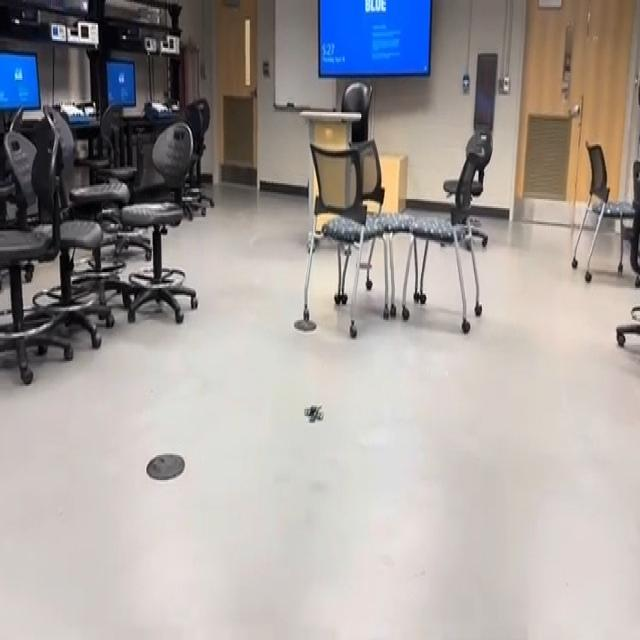drone: (297, 392, 328, 433)
